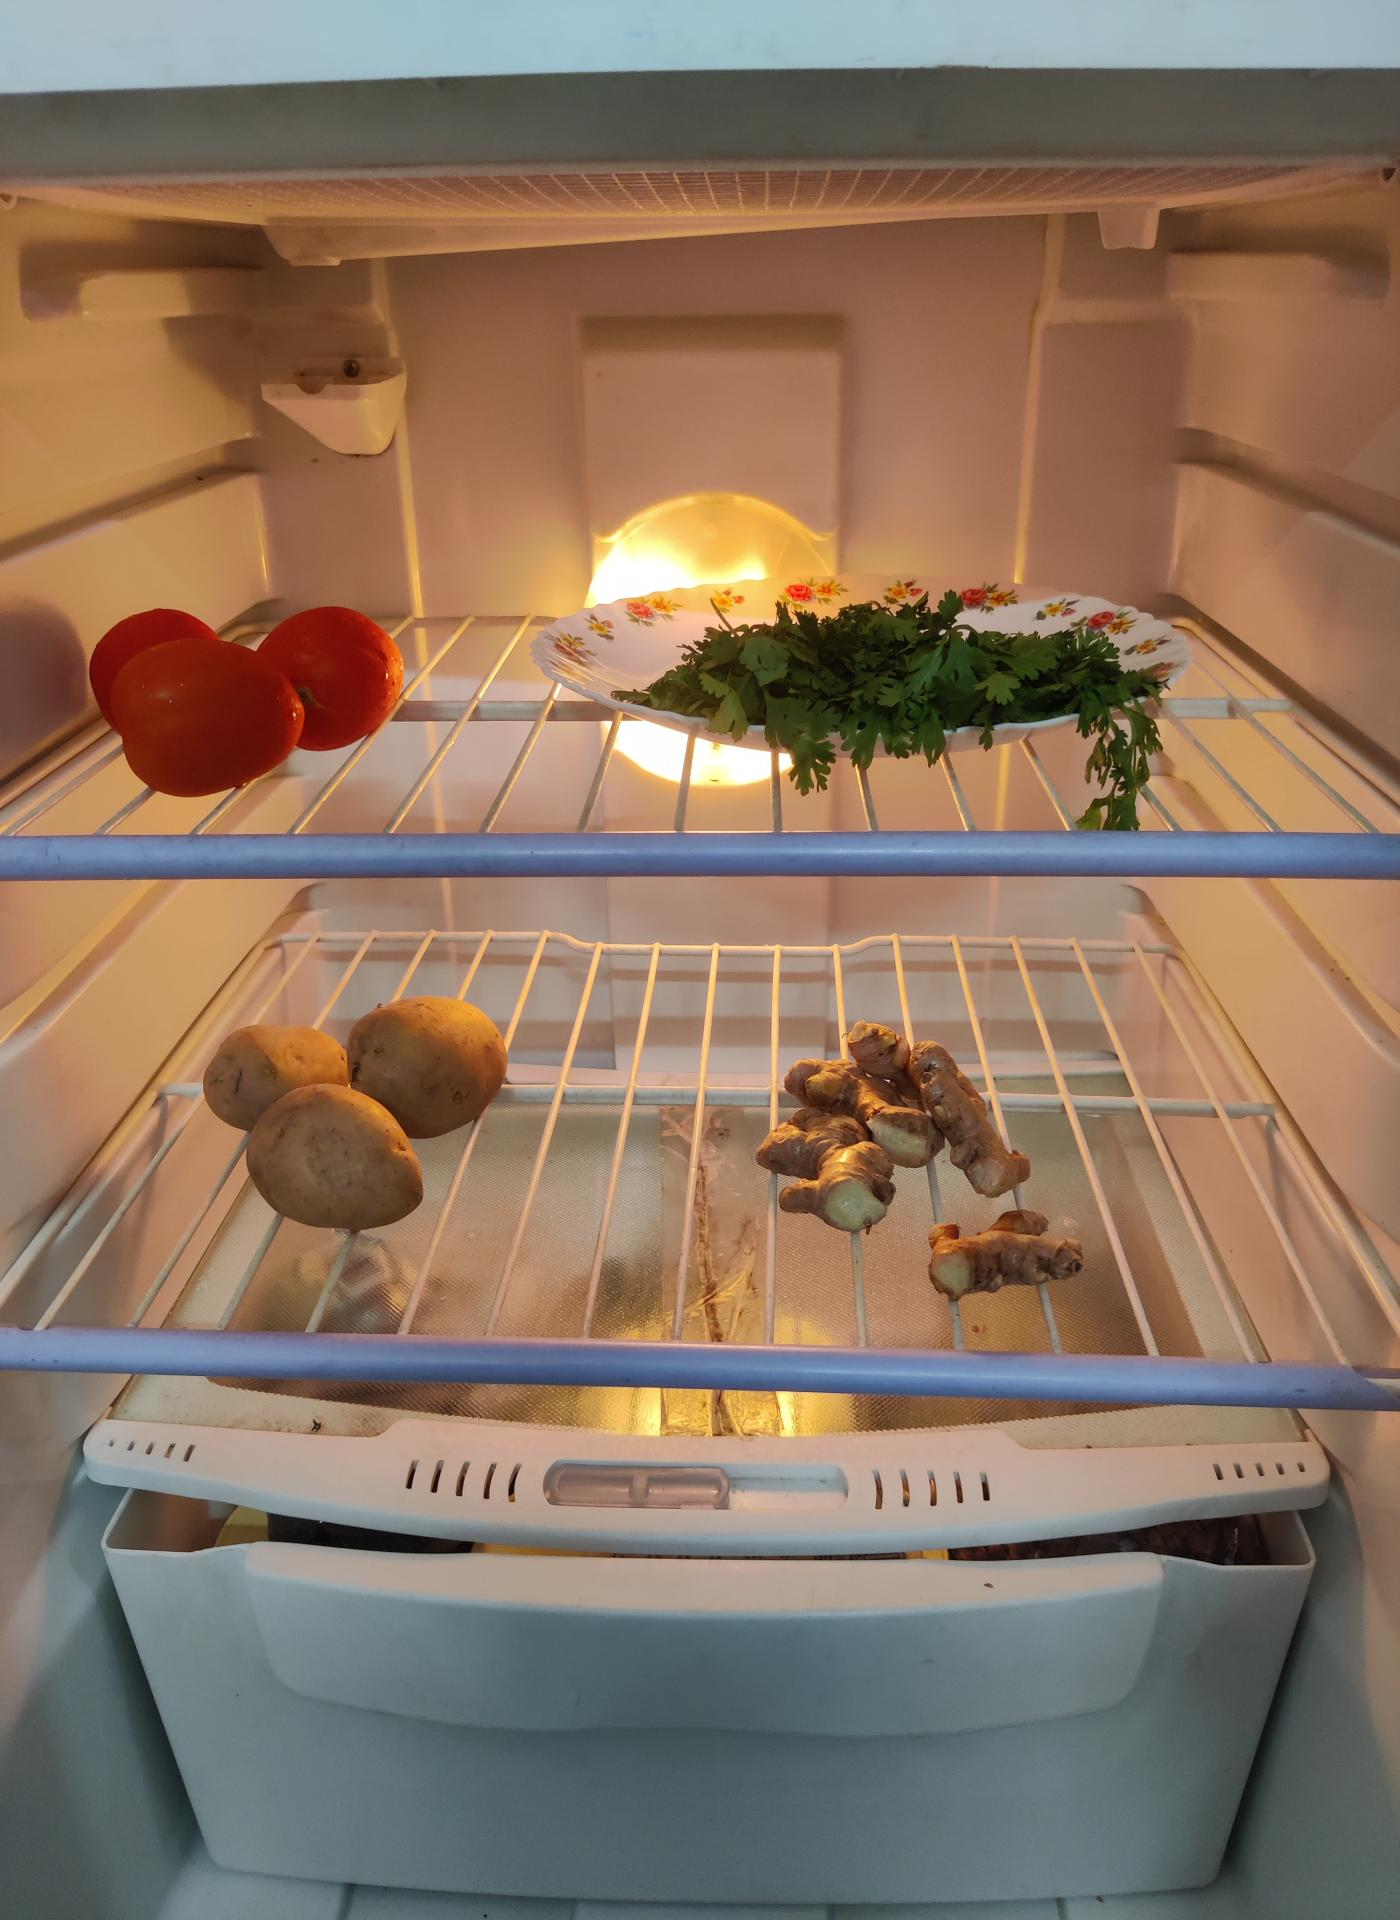coriander: (635, 598, 1170, 750)
ginger: (766, 1033, 1035, 1216)
potato: (201, 988, 522, 1225)
tomato: (89, 596, 406, 787)
